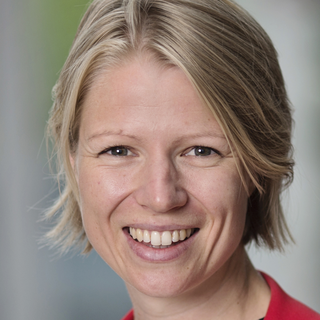eye: (175, 142, 228, 163), (92, 142, 143, 162)
